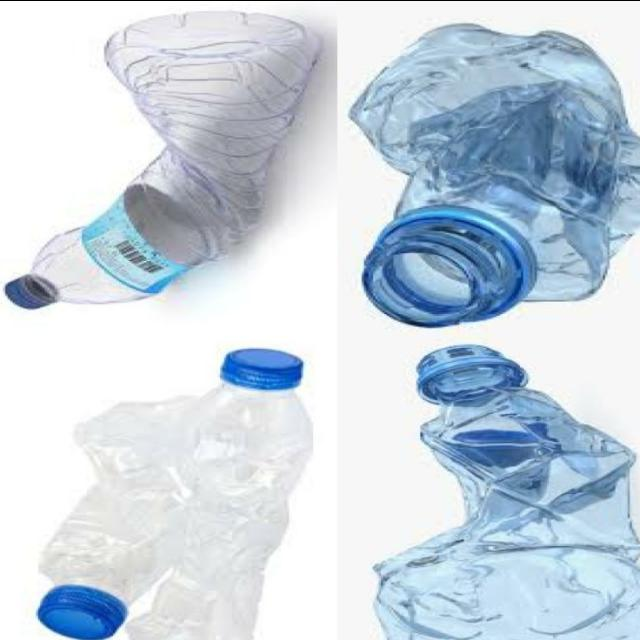plastik: (5, 10, 319, 308), (350, 24, 640, 326), (374, 345, 640, 640), (125, 347, 311, 640), (37, 396, 201, 640)
